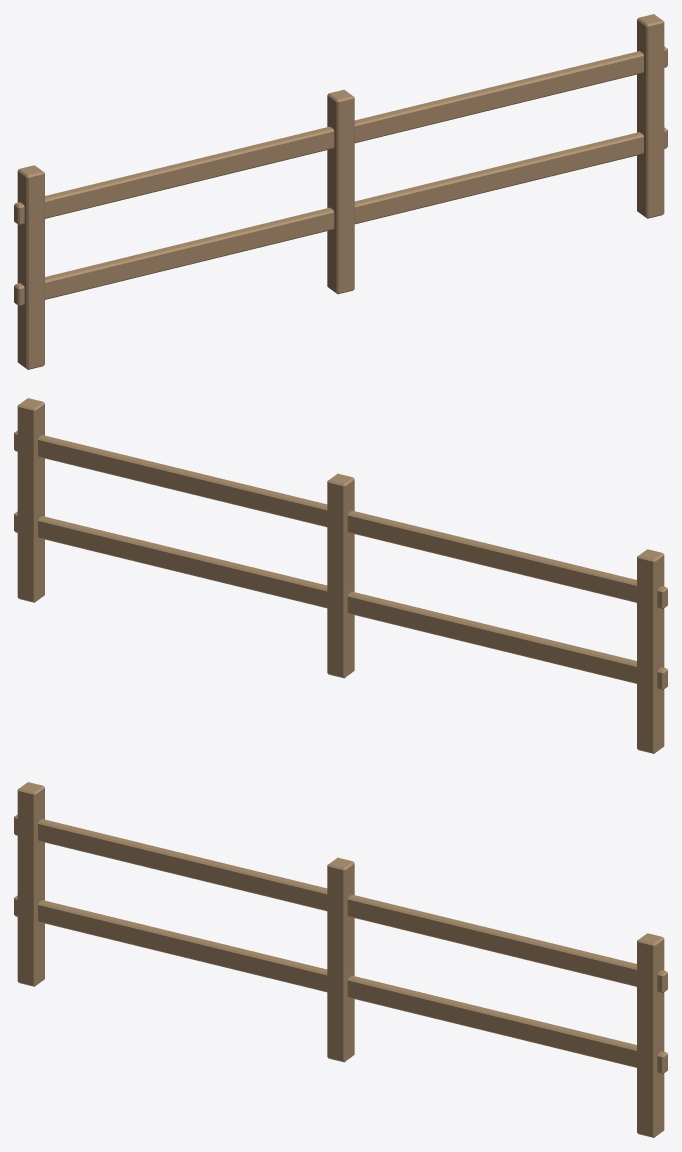
File: fence.glb
3 views of the same model, one above another, from view 1: azimuth 30°, elevation 25°; view 2: azimuth 150°, elevation 25°; view 3: azimuth 330°, elevation 25° (orthographic).
Parts seen in each view (by area): view 1: fence; view 2: fence; view 3: fence.
Boxes of the visible parts, left/top/right/bottom form: fence: left=14, top=14, right=667, bottom=369; fence: left=14, top=398, right=667, bottom=753; fence: left=14, top=782, right=667, bottom=1137.
Size of the model in its own units: 4.2 by 1.2 by 0.12.
